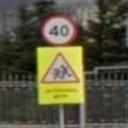speed_limit_40: (41, 15, 77, 47)
